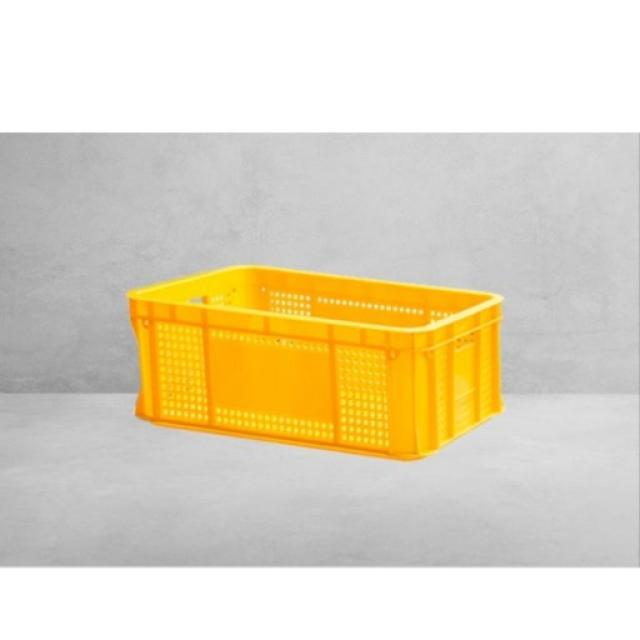basket: (111, 250, 518, 473)
